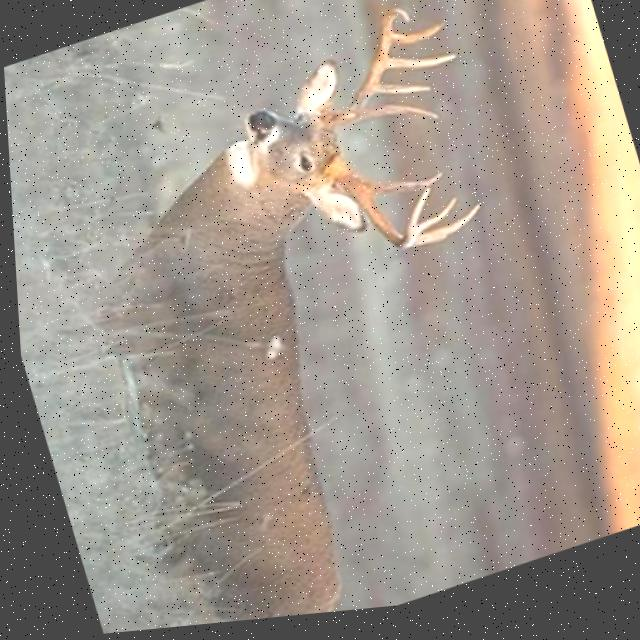L-F: (327, 164, 427, 256)
L-G1: (363, 179, 441, 202)
R-F: (320, 15, 409, 132)
R-G1: (349, 110, 436, 129)
R-G2: (371, 89, 429, 101)
R-G3: (383, 60, 456, 79)
R-G4: (390, 29, 445, 53)
